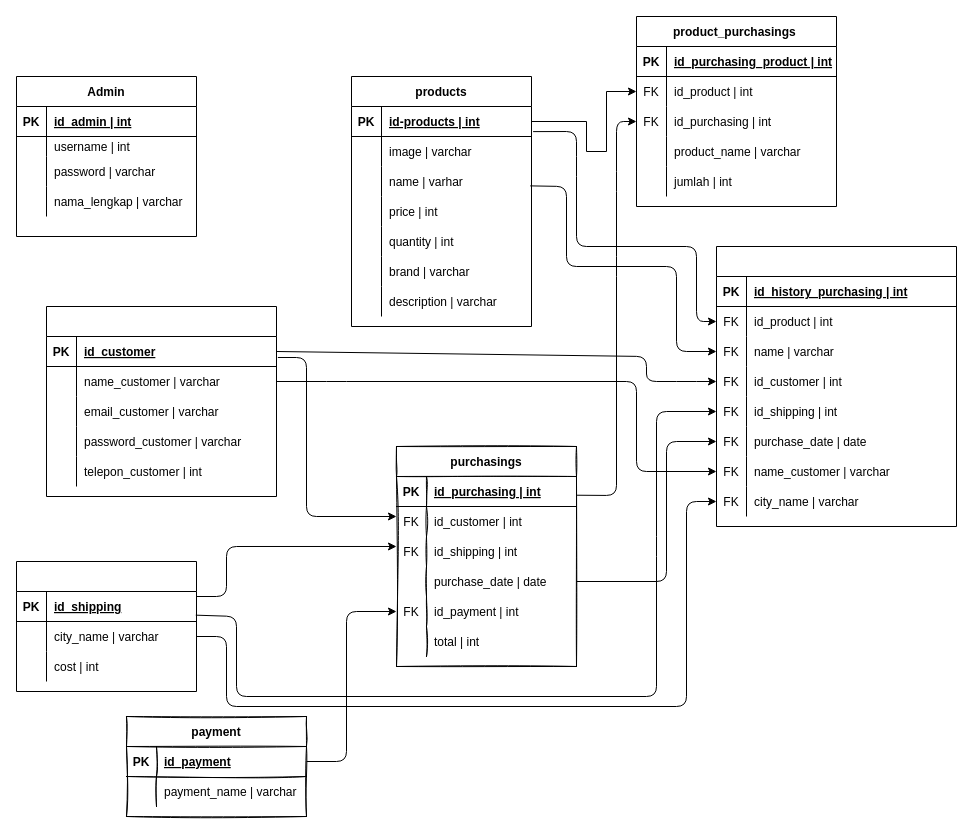
The diagram is 973 pixels wide and 834 high, and some of its shapes have lost their labels. The box of each missing label's shape, as (x1, y1, x2, y2) in pixels:
customers: (46, 306, 276, 496)
history_purchasings: (716, 246, 956, 526)
shippings: (16, 560, 196, 692)
